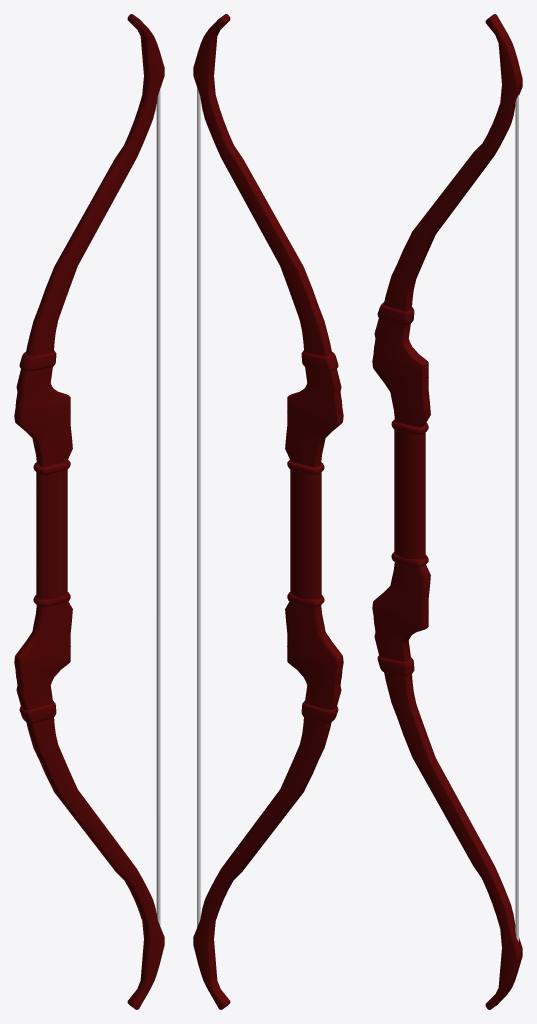
File: Bow.FBX
3 views of the same model, side by side, from view 1: azimuth 30°, elevation 25°; view 2: azimuth 150°, elevation 25°; view 3: azimuth 330°, elevation 25° (orthographic).
Parts seen in each view (by area): view 1: Cylinder001, Cylinder002; view 2: Cylinder001, Cylinder002; view 3: Cylinder001, Cylinder002.
Part boxes in pixels (left/top/right/bottom): Cylinder001: left=14, top=14, right=164, bottom=1009; Cylinder002: left=156, top=89, right=160, bottom=925; Cylinder001: left=193, top=14, right=343, bottom=1009; Cylinder002: left=197, top=87, right=200, bottom=927; Cylinder001: left=372, top=14, right=522, bottom=1009; Cylinder002: left=515, top=95, right=518, bottom=941.
Bounding box in the file's own units: 16.31 × 105 × 1.95.
